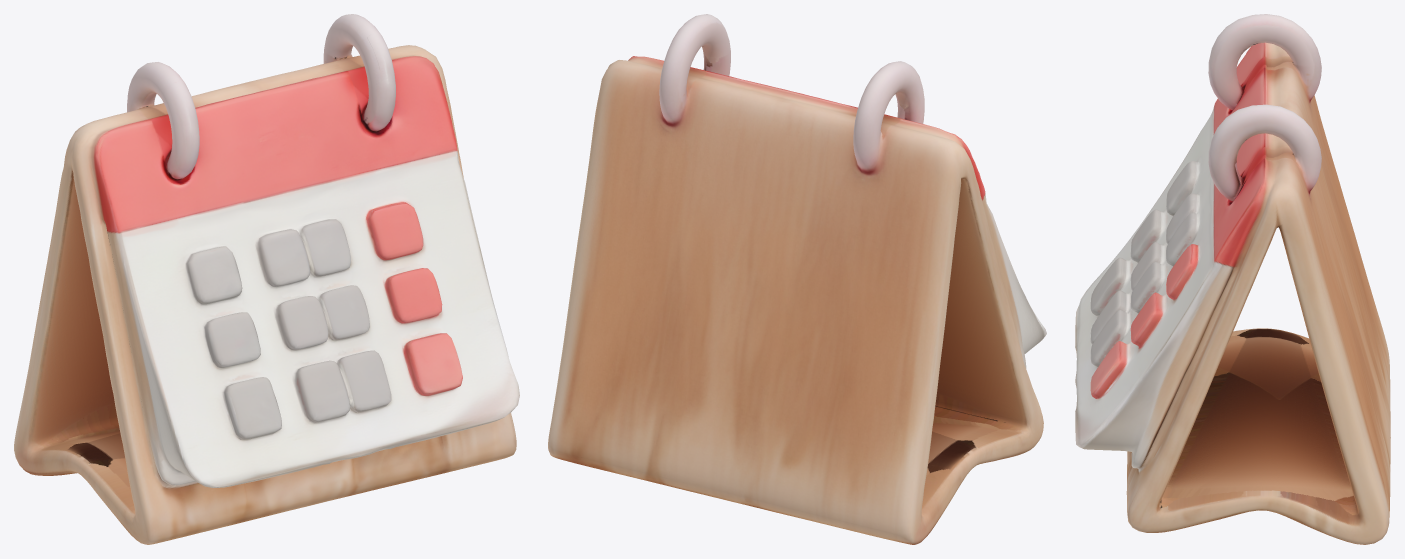
File: calendar_shaded.glb
The picture shows the model from 3 angles, left to right: view 1: azimuth 30°, elevation 25°; view 2: azimuth 150°, elevation 25°; view 3: azimuth 270°, elevation 25°; orthographic projection. The views are drawn at different scales.
Parts seen in each view (by area): view 1: model; view 2: model; view 3: model.
Part boxes in pixels (x1,y1,x2,y2): model: (14,14,519,544); model: (548,14,1046,544); model: (1075,14,1390,544).
Size of the model in its own units: 1.73 by 1.9 by 1.35.
1 material, 1 textured.
